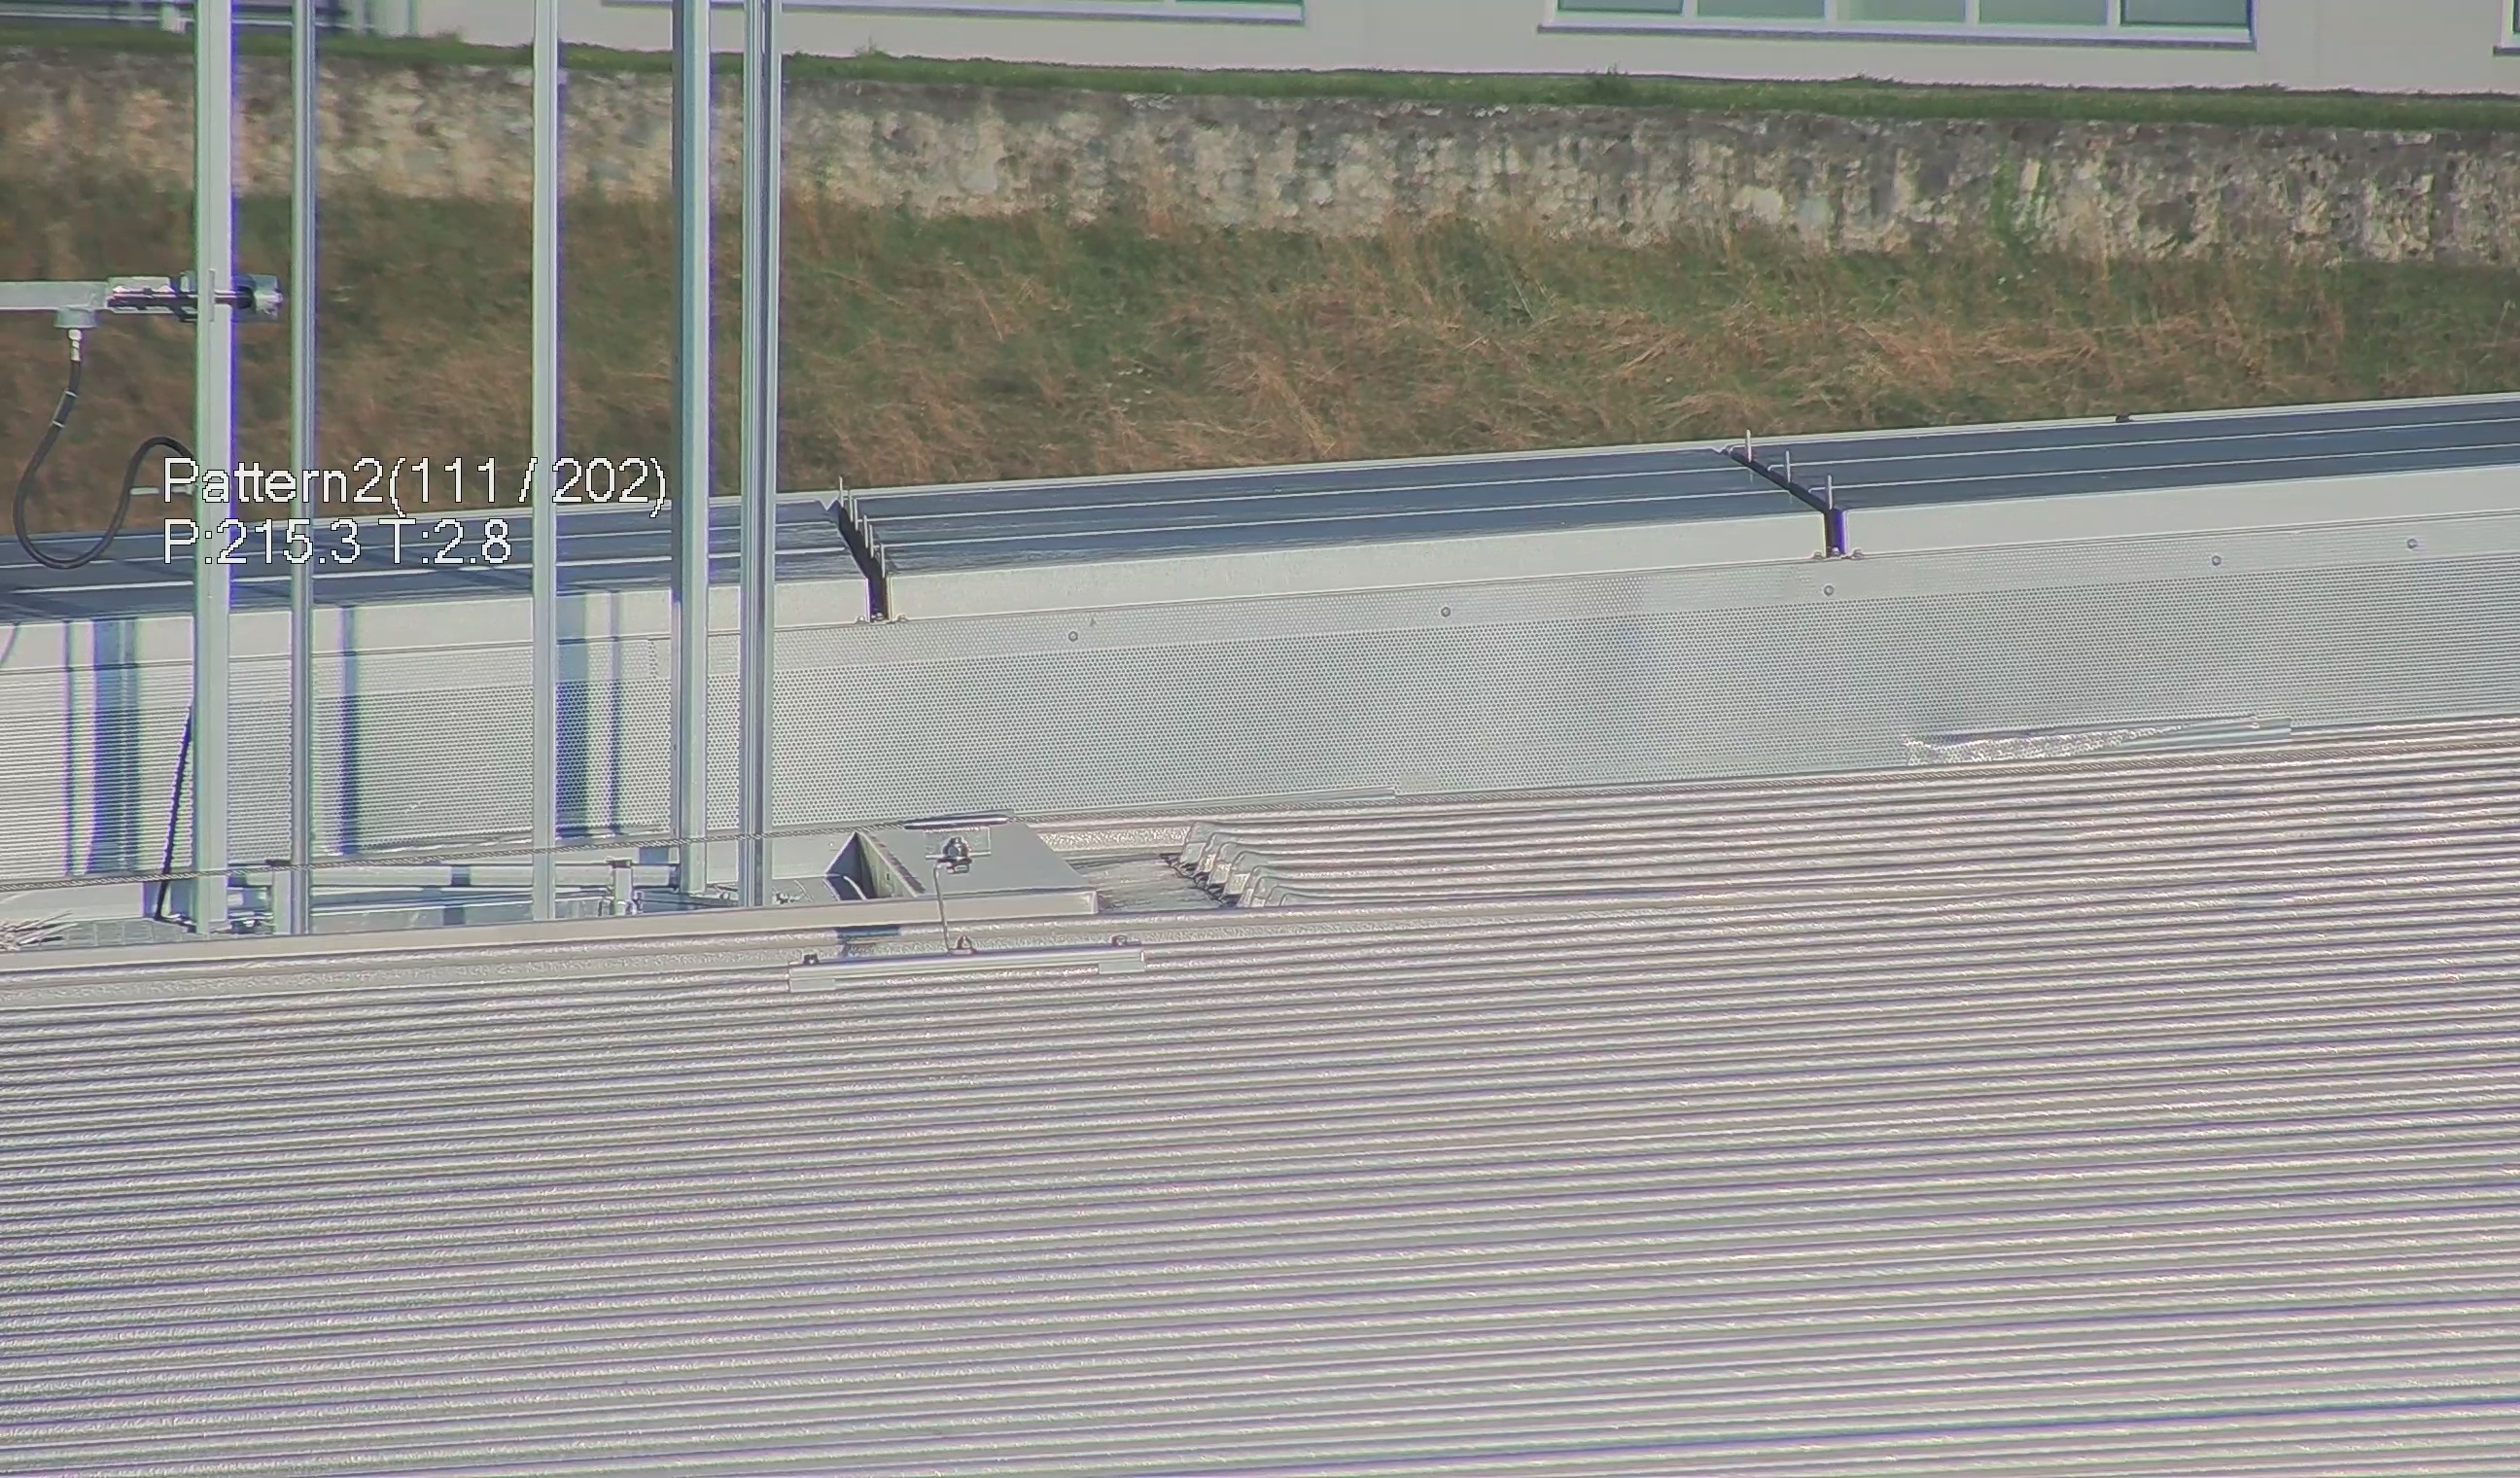Other: (811, 475, 906, 619)
